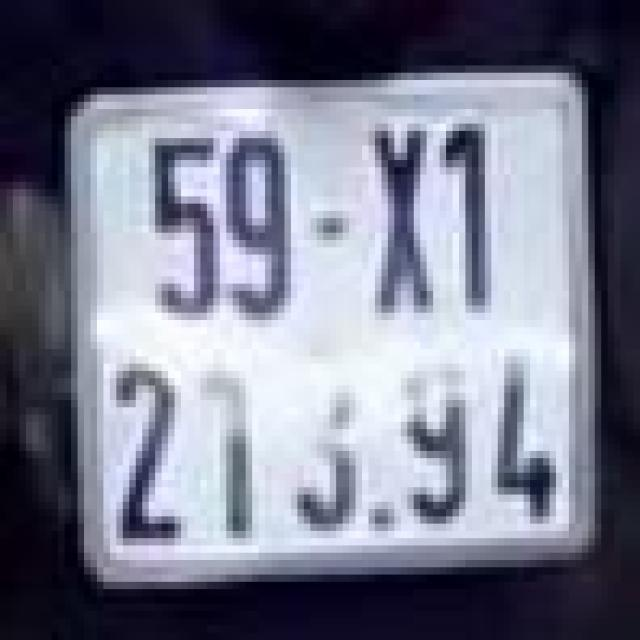1: (194, 338, 265, 556), (443, 109, 507, 335)
2: (90, 368, 188, 556)
3: (278, 345, 368, 542)
4: (485, 349, 562, 531)
5: (142, 124, 226, 327)
9: (220, 127, 310, 331), (398, 353, 475, 527)
X: (368, 109, 439, 320)
